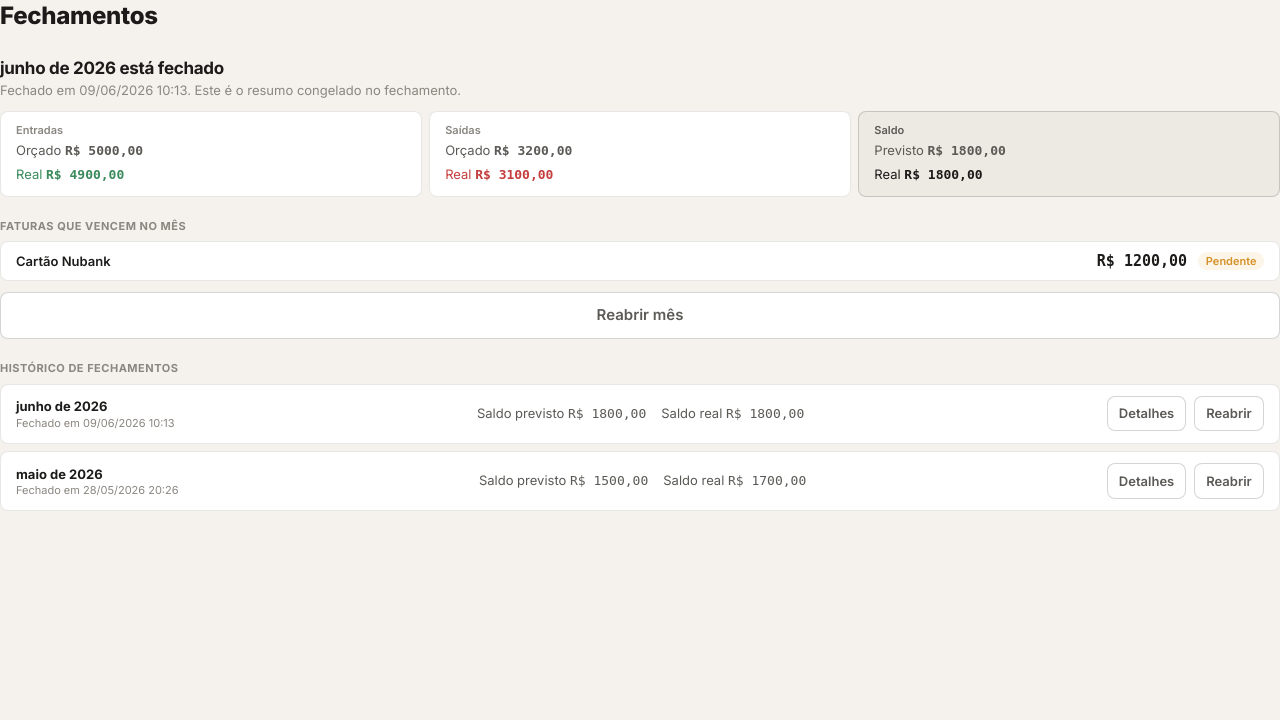
Test: FinanceClosingsPage › shows the frozen snapshot and reopens a closed month
Check: the heading "junho de 2026 está fechado" is shown, box [0, 58, 224, 78]
Click the button "Reabrir mês".
click(640, 315)  # box [0, 292, 1279, 339]
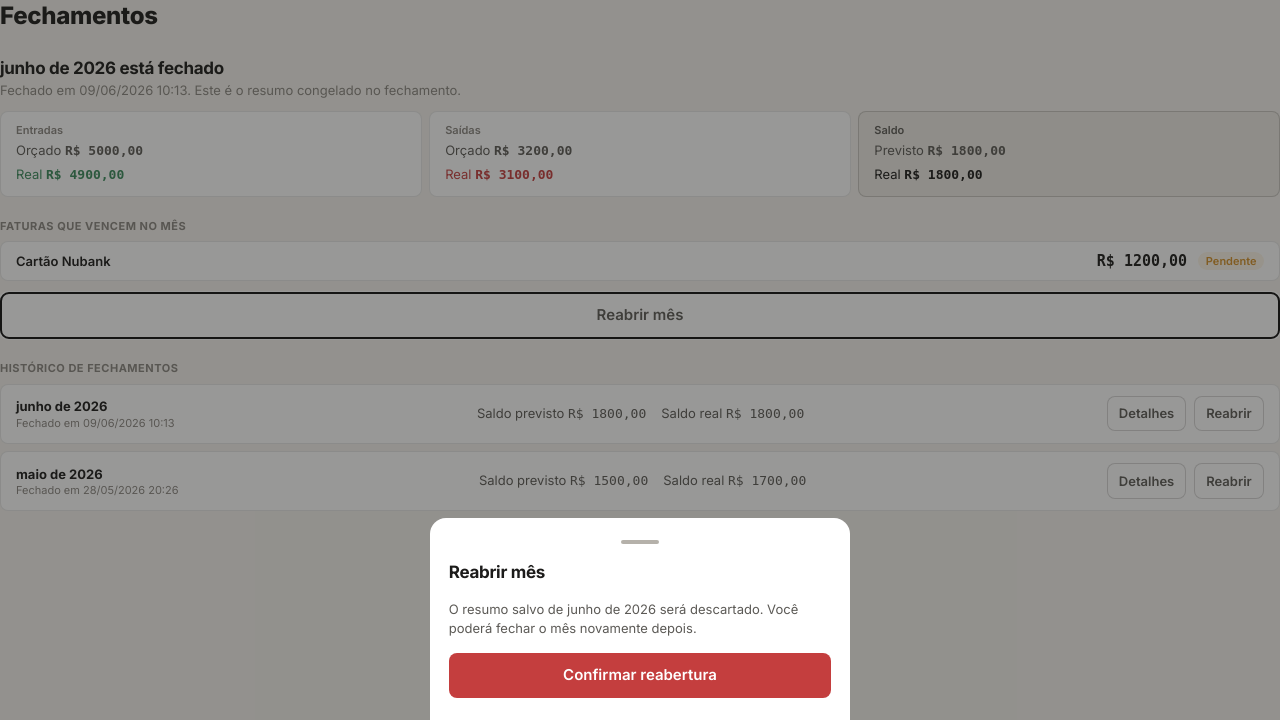
Check: the text "O resumo salvo de junho de 2026 será" is shown, box [449, 600, 831, 638]
Click the button "Confirmar reabertura".
click(640, 675)  # box [449, 652, 831, 698]
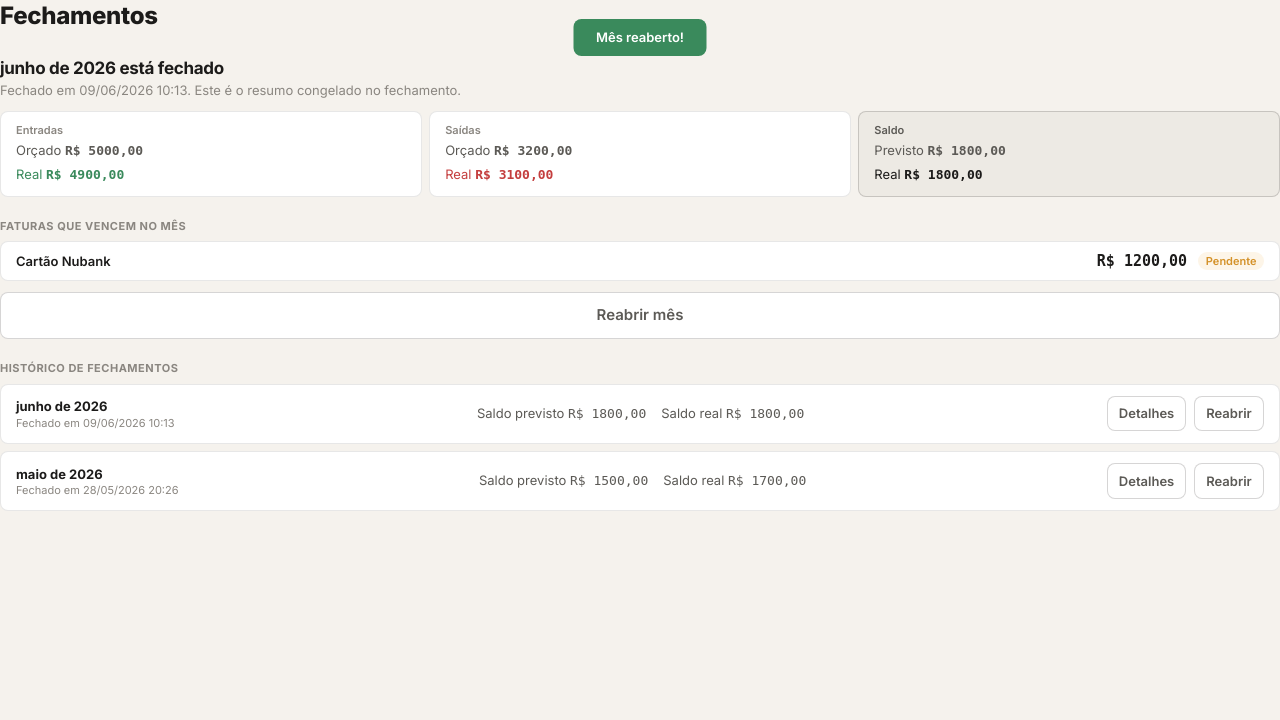
Check: the dialog is gone
